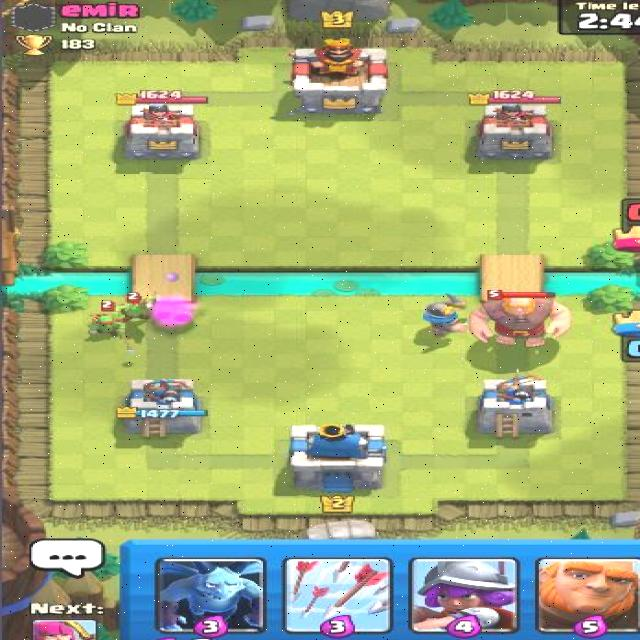Enemy-Giant: (467, 288, 574, 349)
Enemy-SpearGoblin: (82, 299, 130, 342), (112, 291, 162, 324)
Player-Knight: (418, 291, 477, 340)
